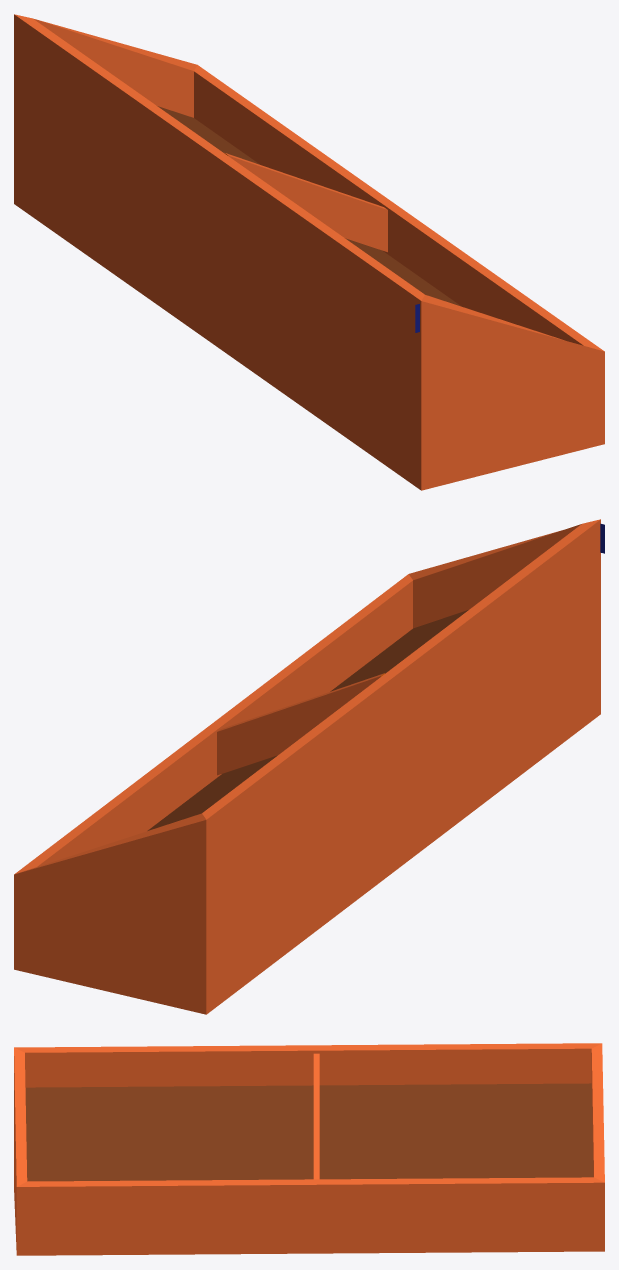
The model's file is fruit-table.fbx.
3 renders of one model, top to bottom at view 1: azimuth 30°, elevation 25°; view 2: azimuth 150°, elevation 25°; view 3: azimuth 270°, elevation 25°, orthographic. The views are drawn at different scales.
Parts seen in each view (by area): view 1: pCube956; view 2: pCube956; view 3: pCube956.
Part boxes in pixels (x1,y1,x2,y2): pCube956: (14,14,604,490); pCube956: (14,519,604,1014); pCube956: (14,1043,604,1255).
Size of the model in its own units: 106 by 97.73 by 371.
